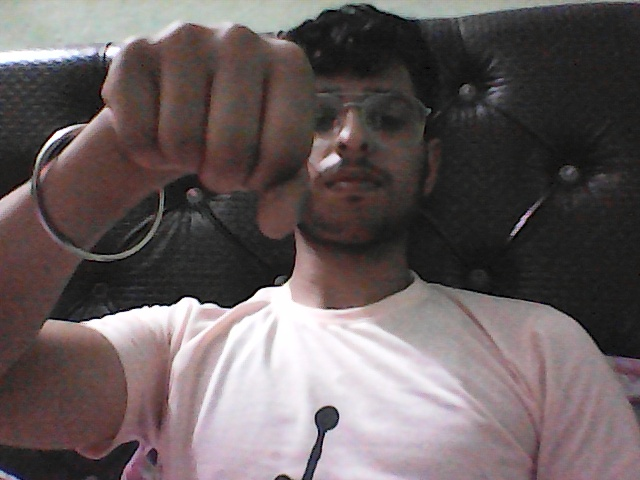yes: (88, 23, 324, 247)
